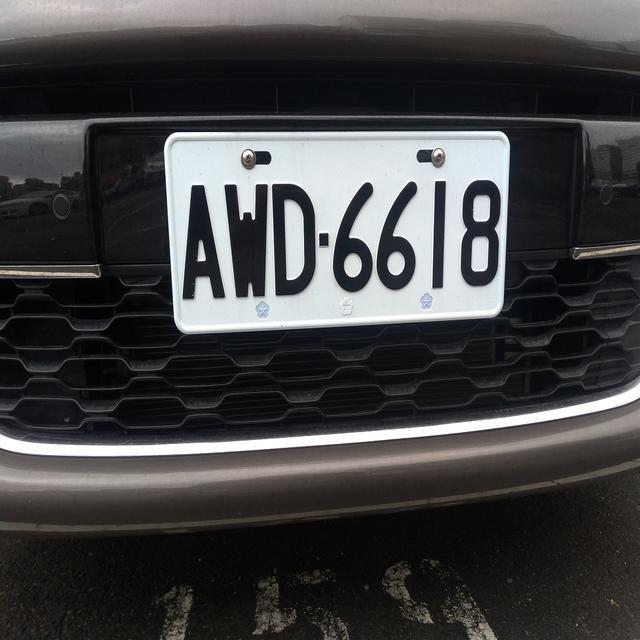license: (167, 137, 505, 315)
